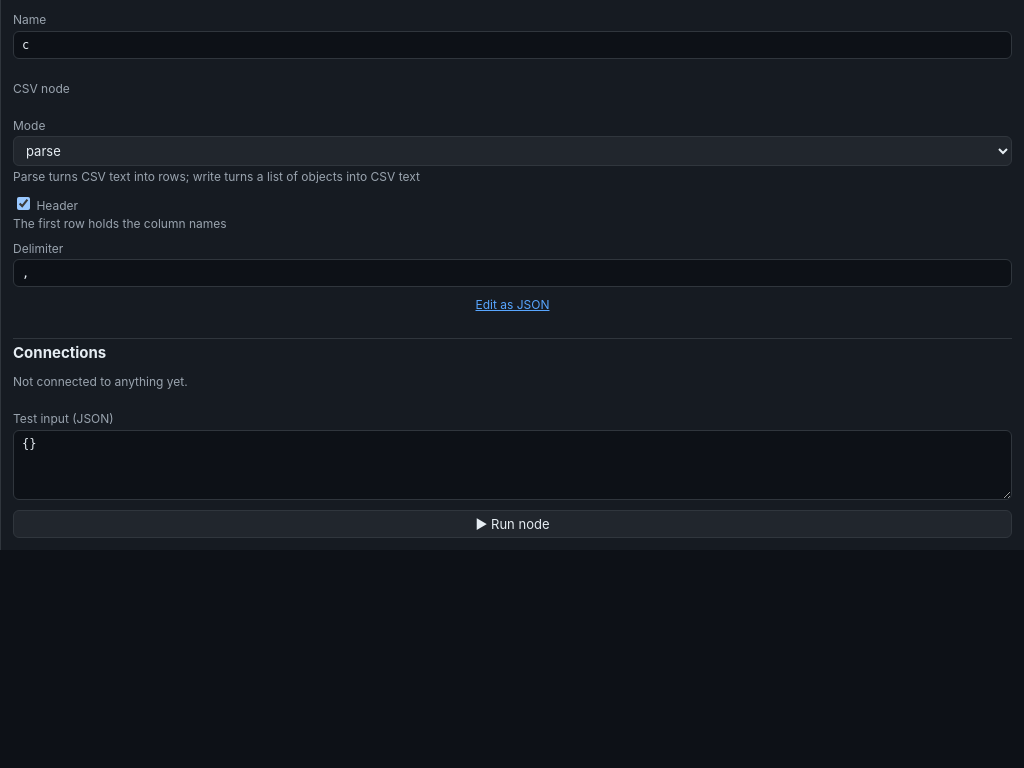
Test: node settings are a form, not a JSON box › still lets you edit the raw JSON, and come back
The image size is (1024, 768).
Click the button "Edit as JSON" at (512, 304), box [13,297,1012,312]
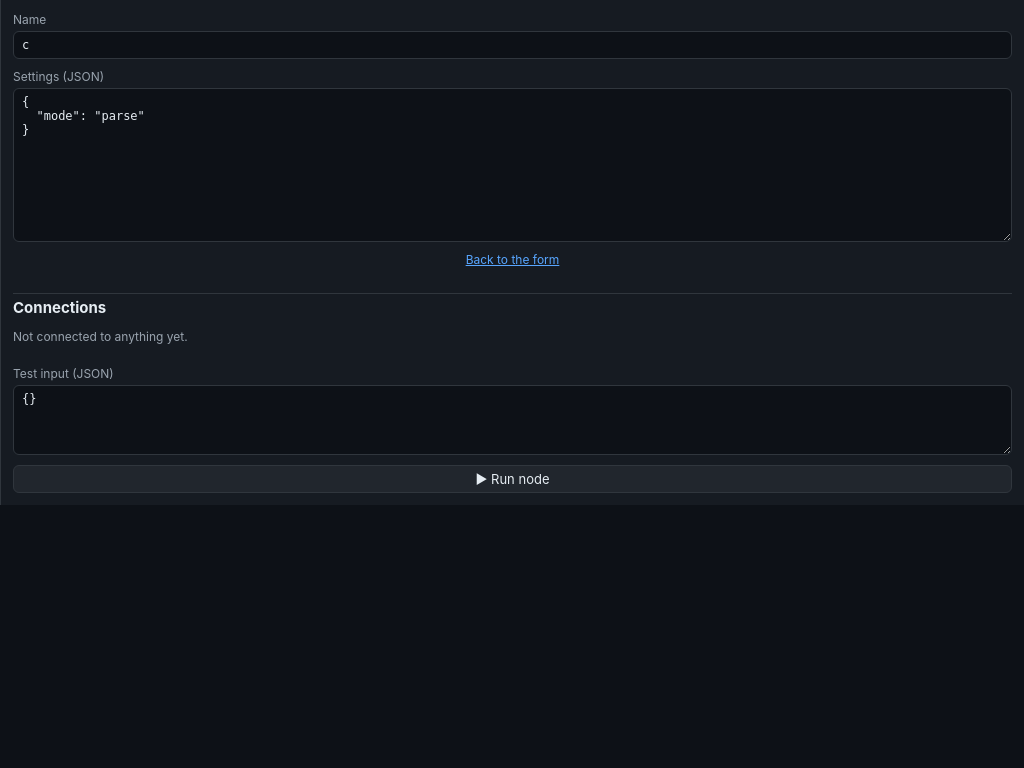
Expected: the text box labelled "Settings (JSON)" is shown, [13,88,1012,242]
Click the button "Back to the form" at (512, 260), box [13,252,1012,267]
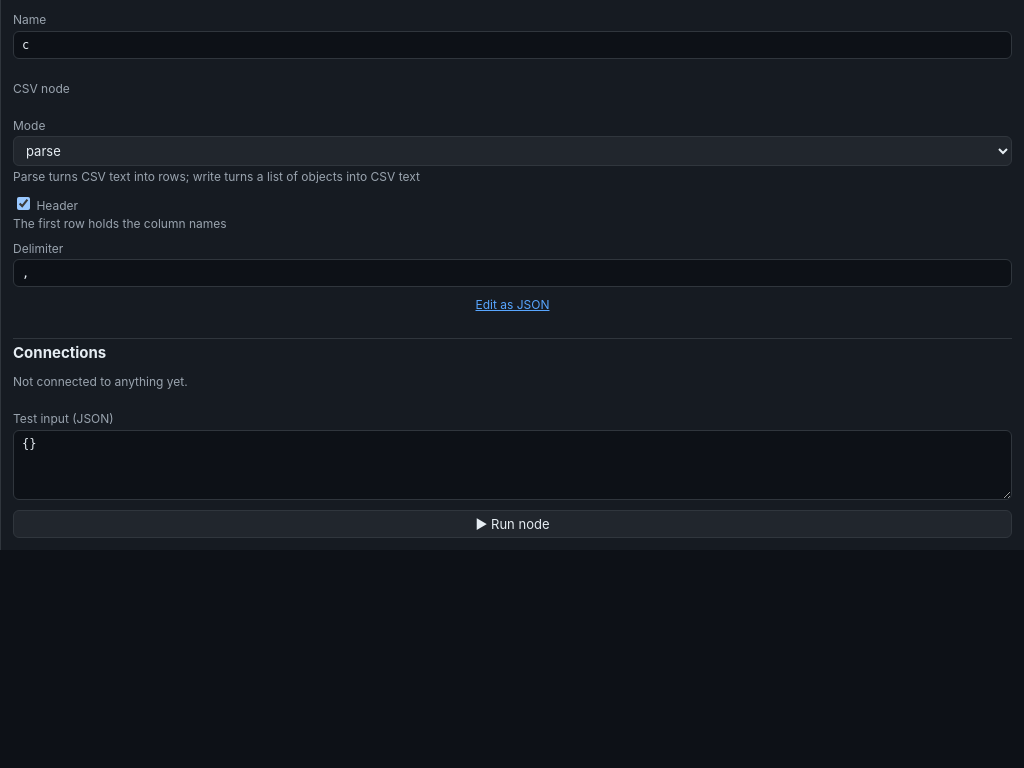
Expected: the dropdown labelled "Mode" is shown, [13,136,1012,166]
